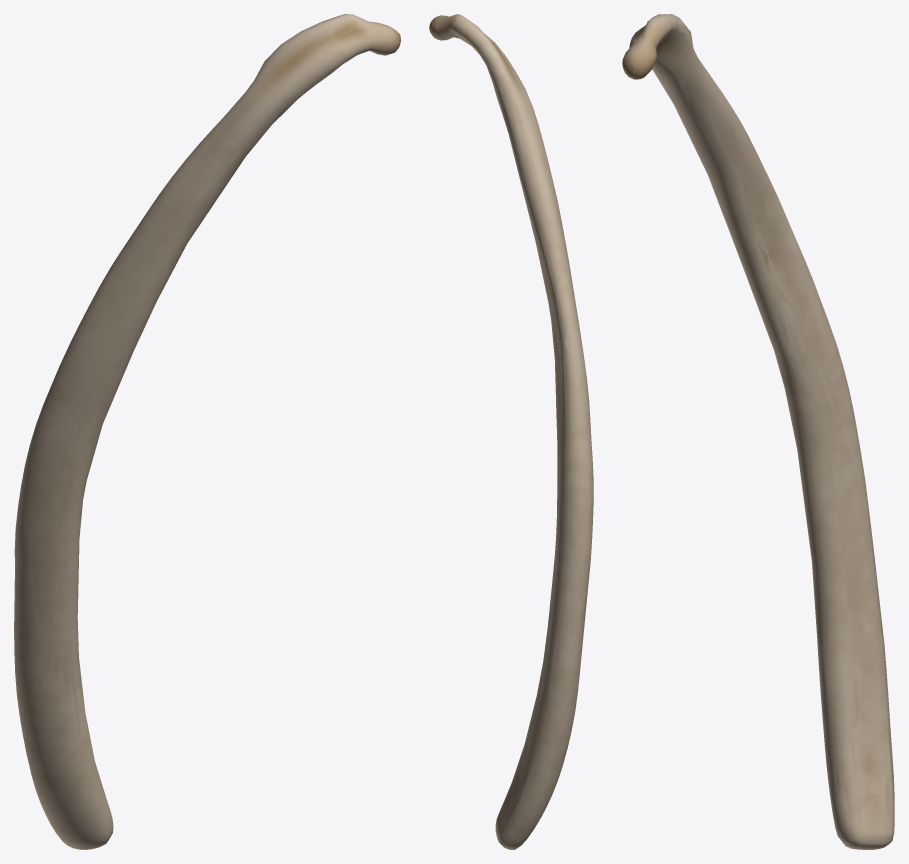
File: Rib R06.fbx
The picture shows the model from 3 angles, left to right: view 1: azimuth 30°, elevation 25°; view 2: azimuth 150°, elevation 25°; view 3: azimuth 270°, elevation 25°; orthographic projection. The views are drawn at different scales.
Visible parts, largest first — view 1: Rib R06, Rib R06 low; view 2: Rib R06, Rib R06 low; view 3: Rib R06 low, Rib R06.
Boxes of the visible parts, x1,y1,x2,y2 form: Rib R06: (14,14,400,849); Rib R06 low: (14,14,381,846); Rib R06: (429,14,593,849); Rib R06 low: (431,14,592,846); Rib R06 low: (631,20,894,848); Rib R06: (622,14,894,849).
Bounding box in the file's own units: 16.33 × 47.9 × 12.93.
1 material, 1 textured.
